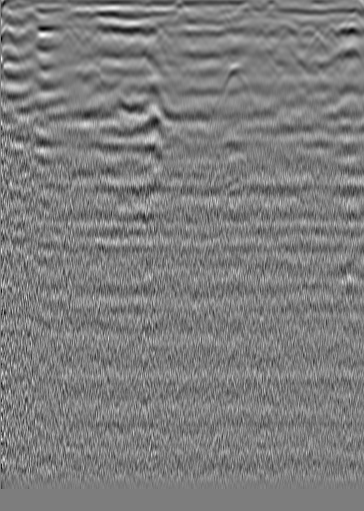가스: (221, 149, 252, 178)
상수: (305, 27, 325, 47)
오수: (19, 20, 39, 40)
우수: (149, 22, 169, 42)
